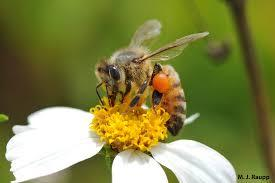Apis-mellifera-scutellata: (79, 13, 203, 140)
